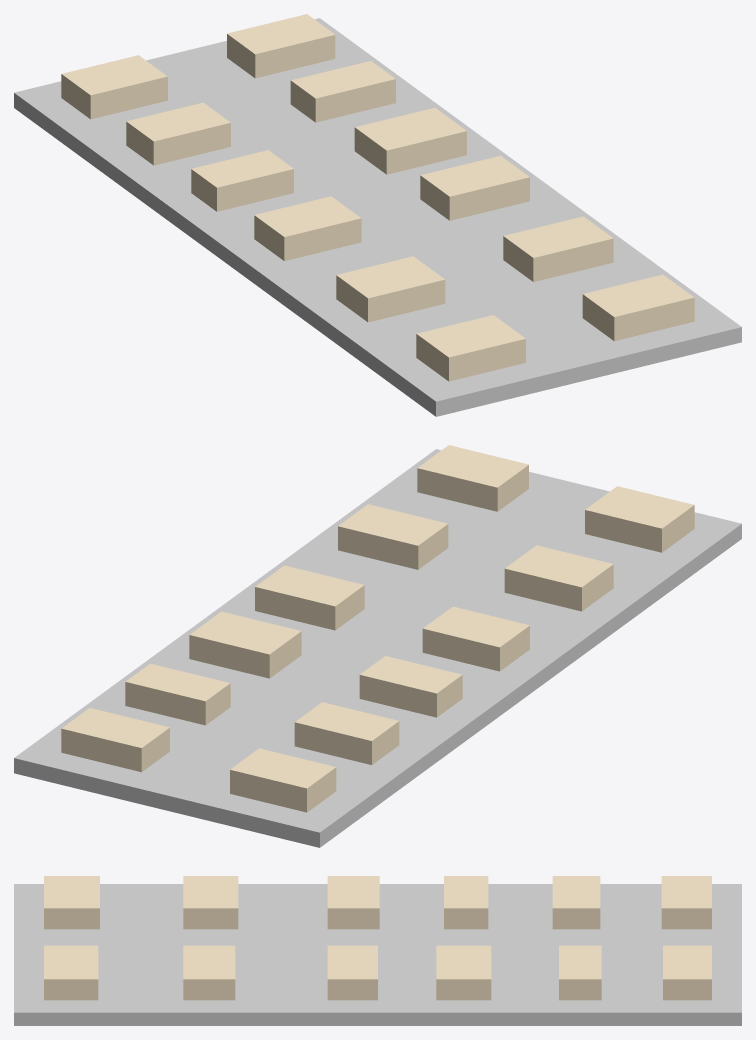
Rendered from tablets in plates.fbx.
The picture shows the model from 3 angles, top to bottom: view 1: azimuth 30°, elevation 25°; view 2: azimuth 150°, elevation 25°; view 3: azimuth 270°, elevation 25°; orthographic projection. The views are drawn at different scales.
Parts seen in each view (by area): view 1: Cube_36; view 2: Cube_36; view 3: Cube_36.
Part boxes in pixels (left/top/right/bottom): Cube_36: left=14, top=14, right=741, bottom=416; Cube_36: left=14, top=445, right=741, bottom=847; Cube_36: left=14, top=876, right=741, bottom=1025.
Bounding box in the file's own units: 4.78 × 0.5878 × 11.42.
